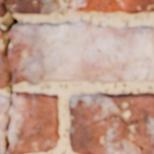brick: (70, 93, 153, 153), (70, 0, 153, 14)
broken_brick: (10, 19, 153, 86), (0, 91, 61, 153), (0, 0, 60, 18), (0, 40, 8, 90), (0, 27, 3, 33)
crack: (0, 2, 20, 151)
